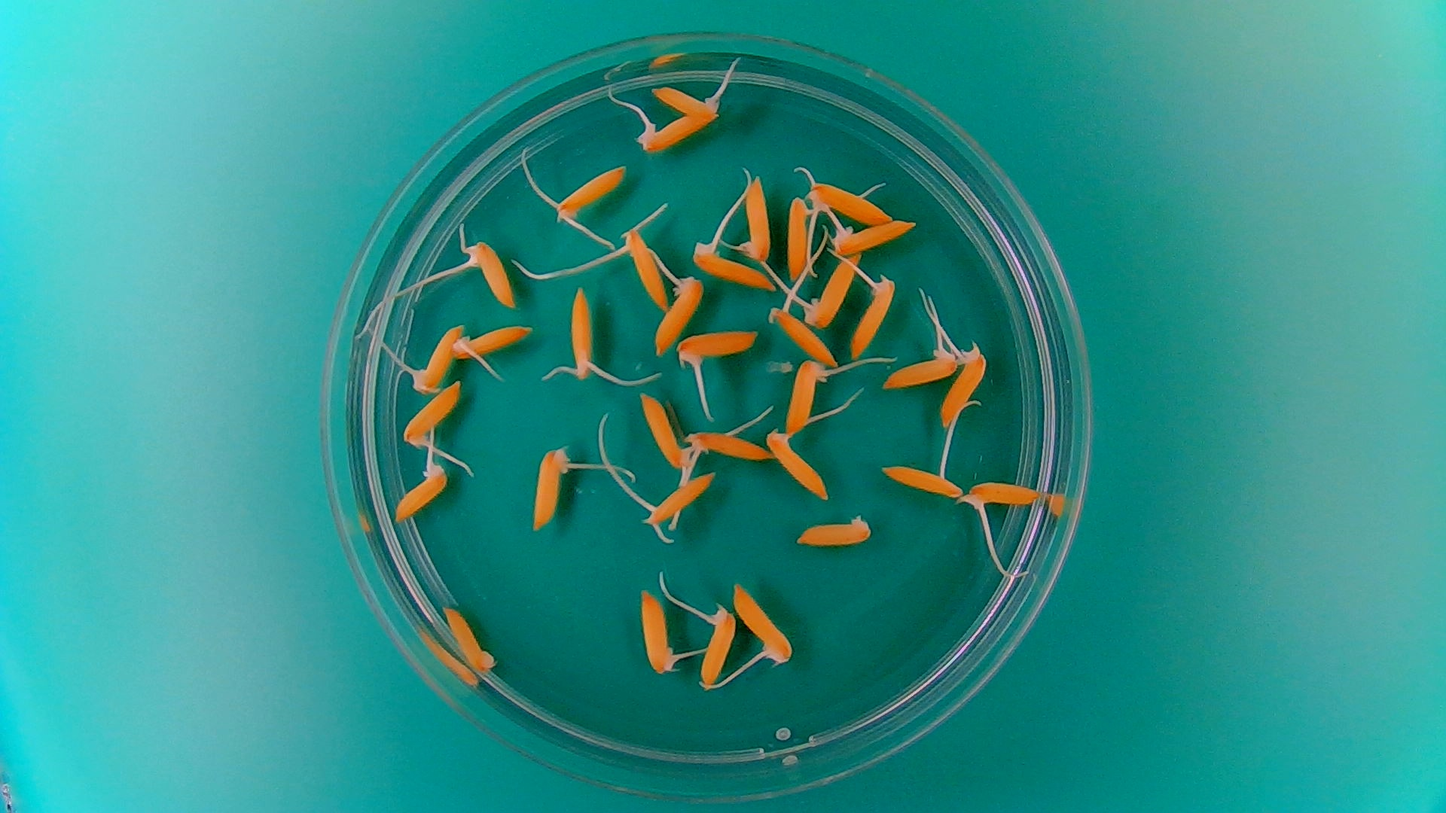no: (441, 604, 495, 671), (794, 509, 874, 551)
yes: (731, 583, 795, 668), (847, 268, 900, 360), (551, 161, 628, 224), (651, 270, 706, 358), (764, 431, 831, 502), (938, 342, 990, 431), (401, 379, 464, 451), (804, 176, 895, 225), (881, 336, 962, 391), (767, 306, 840, 367), (644, 471, 718, 531), (636, 390, 689, 473), (622, 221, 669, 312), (689, 241, 776, 289), (803, 257, 861, 328), (825, 217, 923, 256), (632, 114, 723, 155), (526, 443, 569, 529), (413, 325, 465, 396), (467, 233, 517, 306), (638, 588, 676, 680), (392, 459, 447, 522), (685, 424, 770, 464), (698, 600, 737, 687), (451, 323, 532, 362), (784, 360, 826, 435), (676, 328, 756, 367), (738, 176, 773, 263), (877, 464, 962, 499), (782, 192, 816, 278), (648, 84, 721, 123), (566, 286, 593, 379), (962, 482, 1042, 508)
